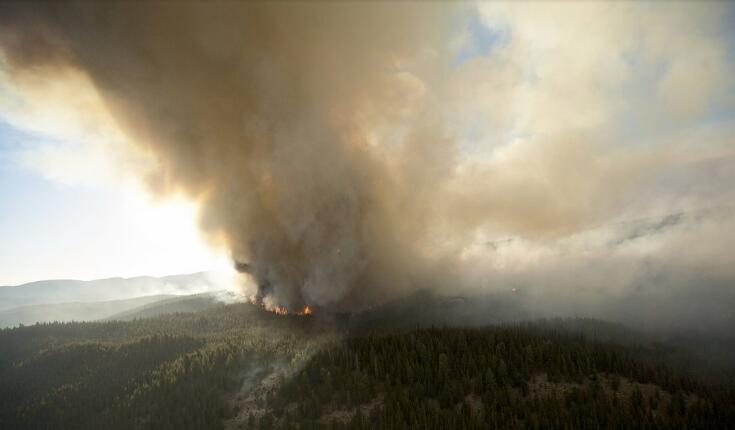yanwu: (0, 1, 730, 330)
